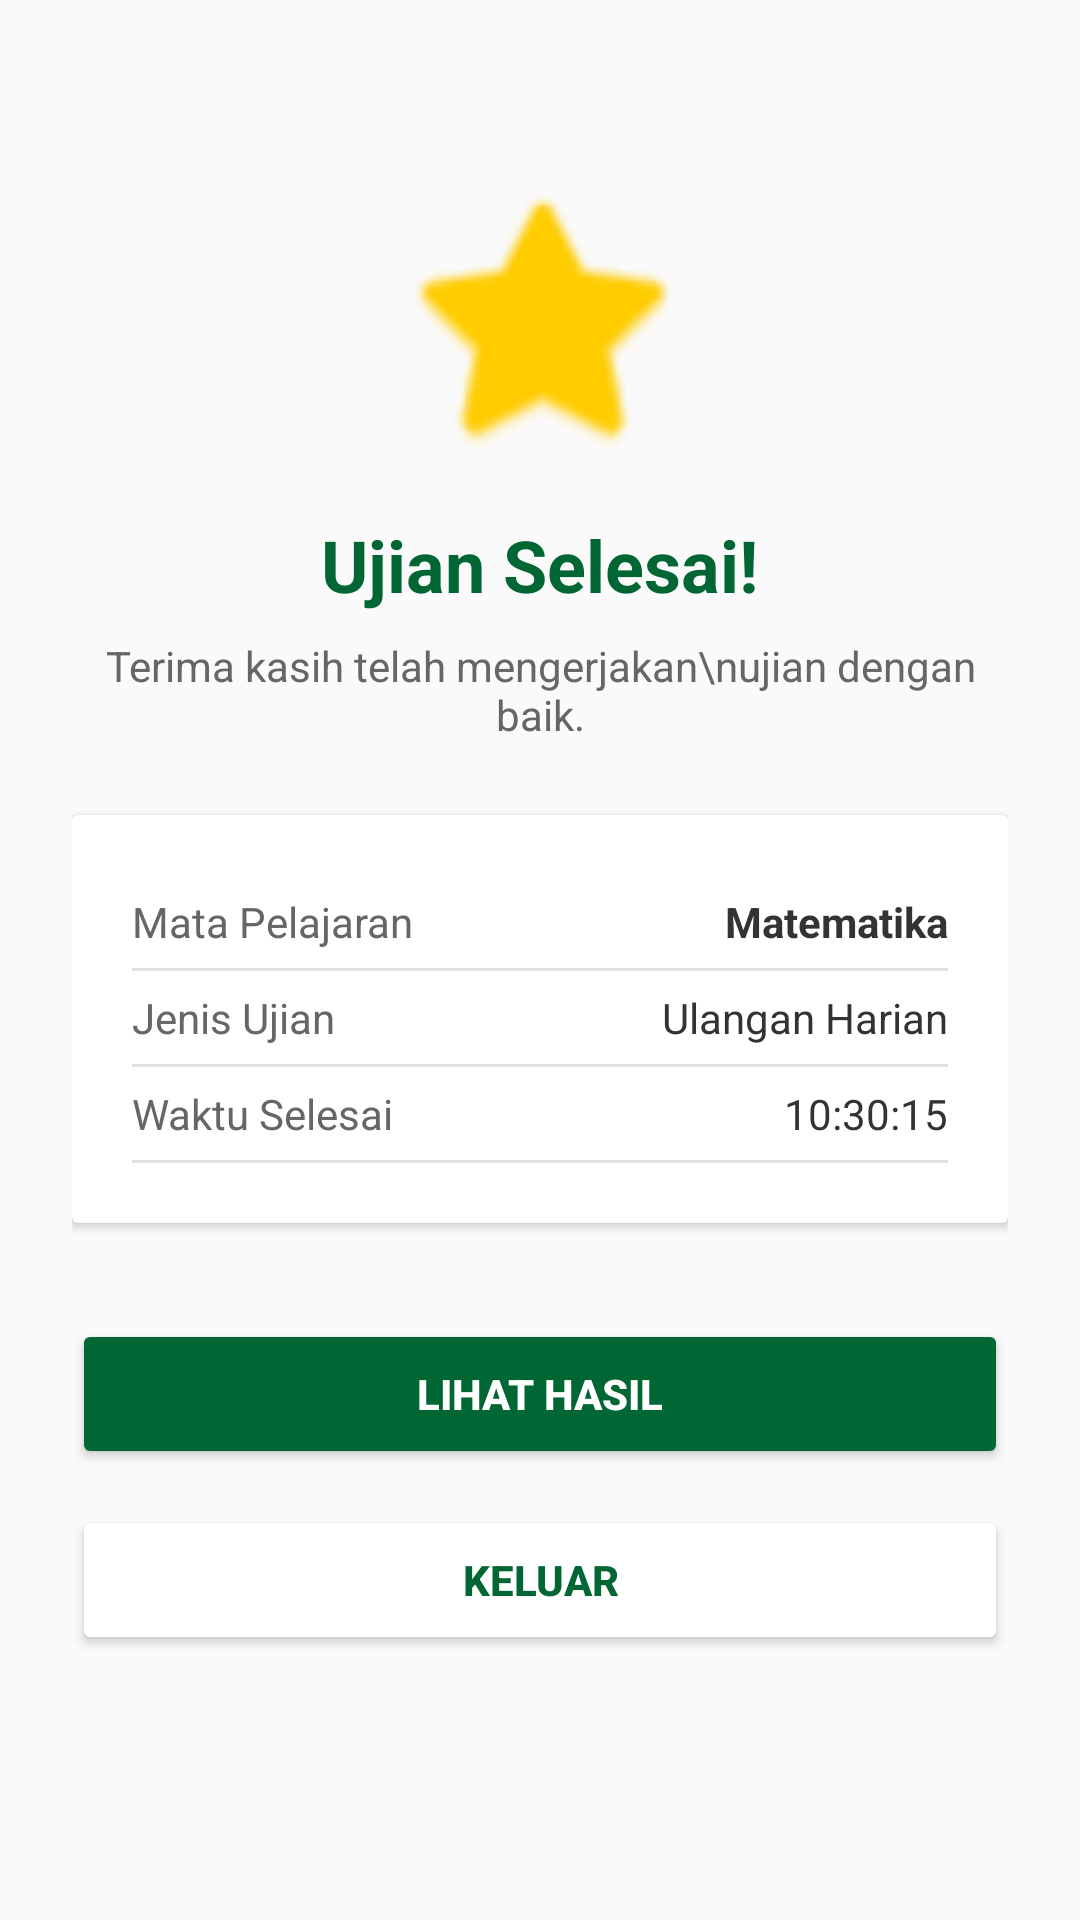

Where to tap for icons on this 1080w x 1920h app screen, as point (x, y):
star on: point (542, 320)
